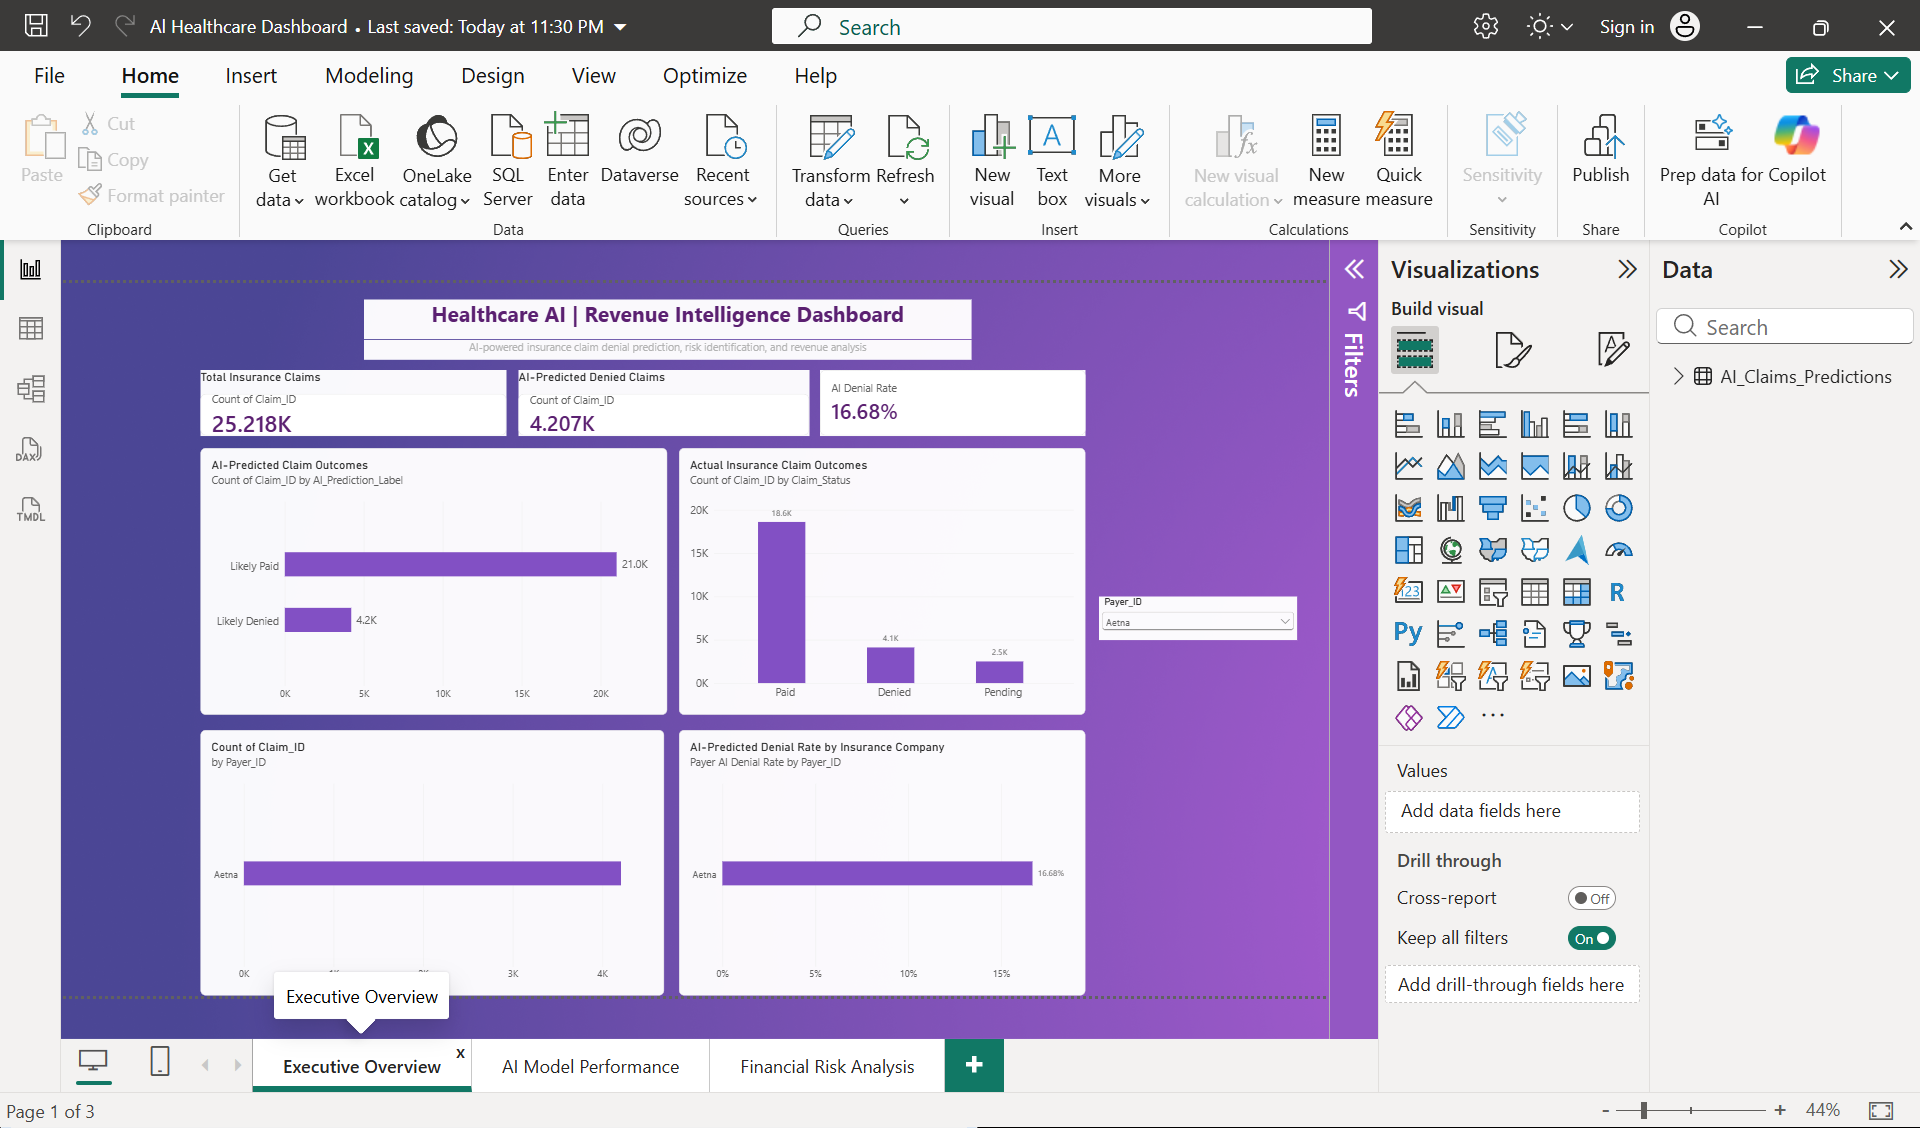

What the dashboard file says about the page in this screenshot:
{"tool":"powerbi","page":{"name":"Executive Overview","canvas":[1920,1080],"ordinal":0},"visuals":[{"type":"cardVisual","title":"Total Insurance Claims","fields":{"Data":["CountNonNull(AI_Claims_Predictions.Claim_ID)"]},"box":[211.2,131.7,463.3,99.9],"z":0},{"type":"cardVisual","title":"AI-Predicted Denied Claims","fields":{"Data":["CountNonNull(AI_Claims_Predictions.Claim_ID)"]},"box":[692.7,131.7,440.6,99.9],"z":1000},{"type":"cardVisual","fields":{"Data":["AI_Claims_Predictions.AI Denial Rate"]},"box":[1149.3,131.7,402,99.9],"z":2000},{"type":"clusteredBarChart","title":"AI-Predicted Claim Outcomes","fields":{"Category":["AI_Claims_Predictions.AI_Prediction_Label"],"Y":["CountNonNull(AI_Claims_Predictions.Claim_ID)"]},"box":[211.2,249.8,706.4,404.3],"z":3000},{"type":"clusteredBarChart","fields":{"Category":["AI_Claims_Predictions.Payer_ID"],"Y":["CountNonNull(AI_Claims_Predictions.Claim_ID)"]},"box":[211.2,676.8,701.8,402],"z":4000},{"type":"clusteredBarChart","title":"AI-Predicted Denial Rate by Insurance Company","fields":{"Category":["AI_Claims_Predictions.Payer_ID"],"Y":["AI_Claims_Predictions.Payer AI Denial Rate"]},"box":[935.8,676.8,615.5,402],"z":5000},{"type":"clusteredColumnChart","title":"Actual Insurance Claim Outcomes","fields":{"Category":["AI_Claims_Predictions.Claim_Status"],"Y":["CountNonNull(AI_Claims_Predictions.Claim_ID)"]},"box":[935.8,249.8,615.5,404.3],"z":6000},{"type":"textbox","box":[458.8,25,920,60],"z":6001},{"type":"textbox","box":[458.8,86.3,920,30],"z":6002},{"type":"slicer","fields":{"Values":["AI_Claims_Predictions.Payer_ID"]},"box":[1571.7,474.7,299.8,65.9],"z":6003}]}

Visuals, with their boxes on the page's 1920x1080 design canvas (x1, y1, x2, y2). These are canvas units, not pixel positions in the 1920x1128 screenshot, which may show the page scaled, cropped or inside an application window:
"Total Insurance Claims" cardVisual: (left=211, top=132, right=674, bottom=232)
"AI-Predicted Denied Claims" cardVisual: (left=693, top=132, right=1133, bottom=232)
cardVisual - AI_Claims_Predictions.AI Denial Rate: (left=1149, top=132, right=1551, bottom=232)
"AI-Predicted Claim Outcomes" clusteredBarChart: (left=211, top=250, right=918, bottom=654)
clusteredBarChart - AI_Claims_Predictions.Payer_ID x CountNonNull(AI_Claims_Predictions.Claim_ID): (left=211, top=677, right=913, bottom=1079)
"AI-Predicted Denial Rate by Insurance Company" clusteredBarChart: (left=936, top=677, right=1551, bottom=1079)
"Actual Insurance Claim Outcomes" clusteredColumnChart: (left=936, top=250, right=1551, bottom=654)
textbox: (left=459, top=25, right=1379, bottom=85)
textbox: (left=459, top=86, right=1379, bottom=116)
slicer - AI_Claims_Predictions.Payer_ID: (left=1572, top=475, right=1872, bottom=541)
